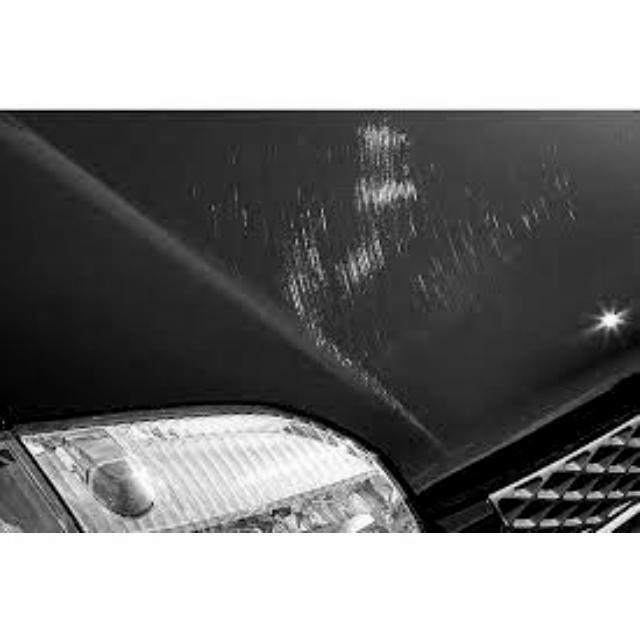bonnet-dent: (12, 117, 638, 484)
